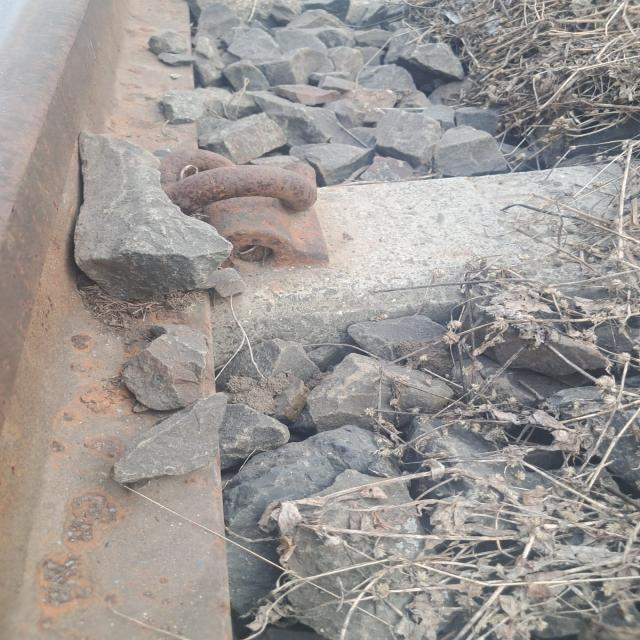underrailed: (142, 139, 395, 299)
